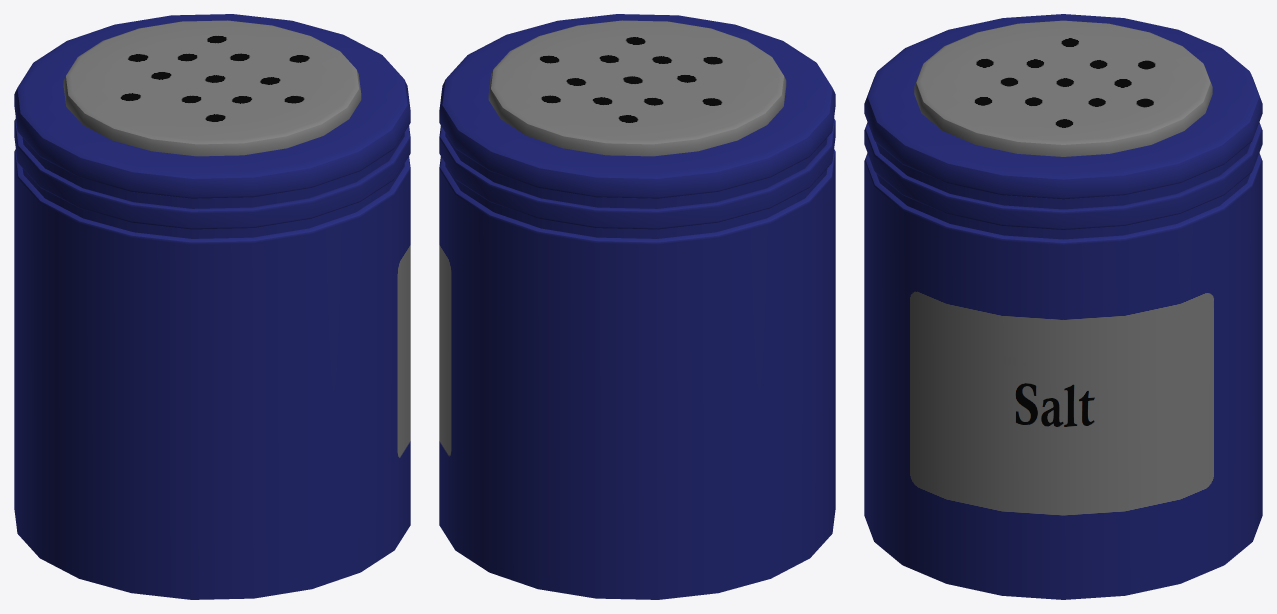
The model's file is saltShaker.fbx.
3 views of the same model, side by side, from view 1: azimuth 30°, elevation 25°; view 2: azimuth 150°, elevation 25°; view 3: azimuth 270°, elevation 25° (orthographic).
Parts seen in each view (by area): view 1: pCylinder1; view 2: pCylinder1; view 3: pCylinder1.
Part boxes in pixels (x1,y1,x2,y2): pCylinder1: (14, 14, 410, 599); pCylinder1: (439, 14, 835, 599); pCylinder1: (864, 14, 1262, 599).
Bounding box in the file's own units: 2 × 2.41 × 2.
1 material, 1 textured.
